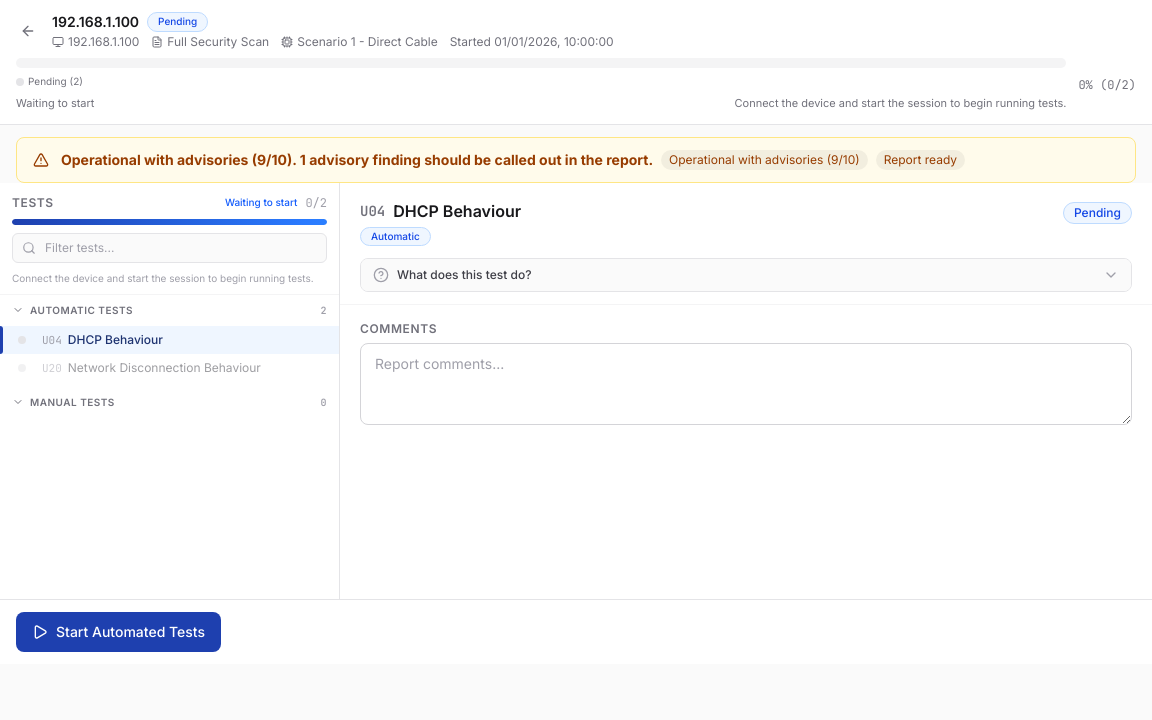
Test: TestRunDetailPage › keeps scenario selection for pending runs with other scenario-routed tests
Click the button "Start Automated Tests" at (118, 632), box 16,612 -> 221,652
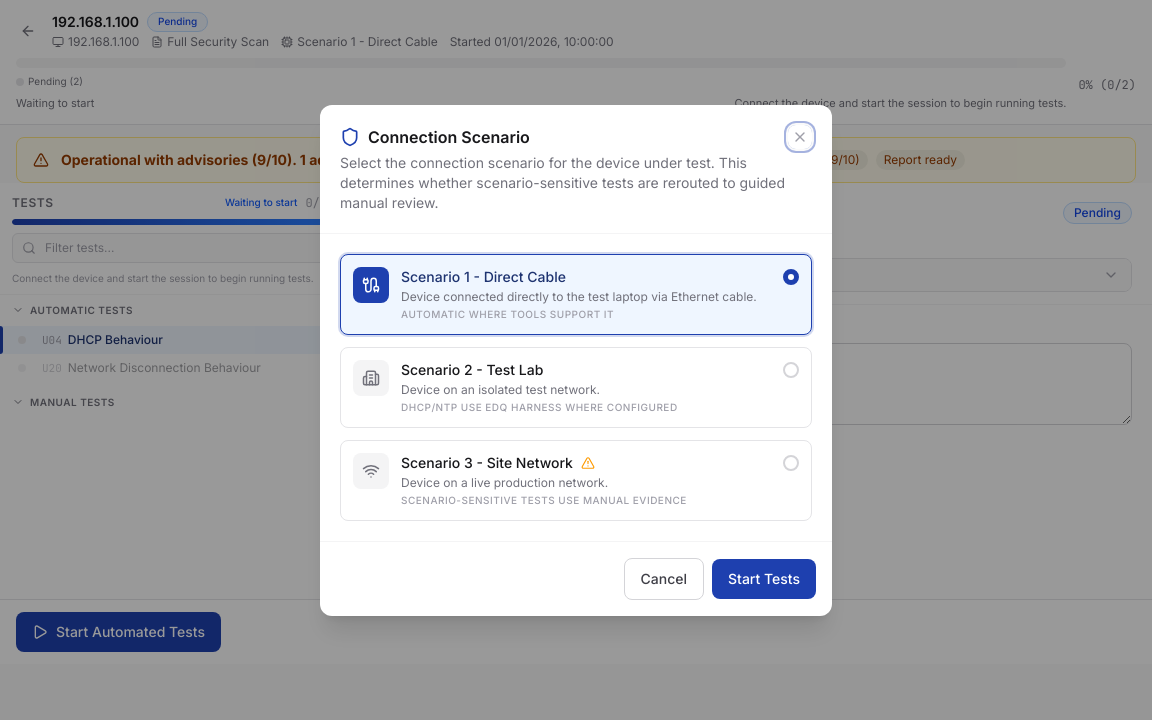
Expected: the heading "Connection Scenario" is shown, 368,124 -> 530,148
